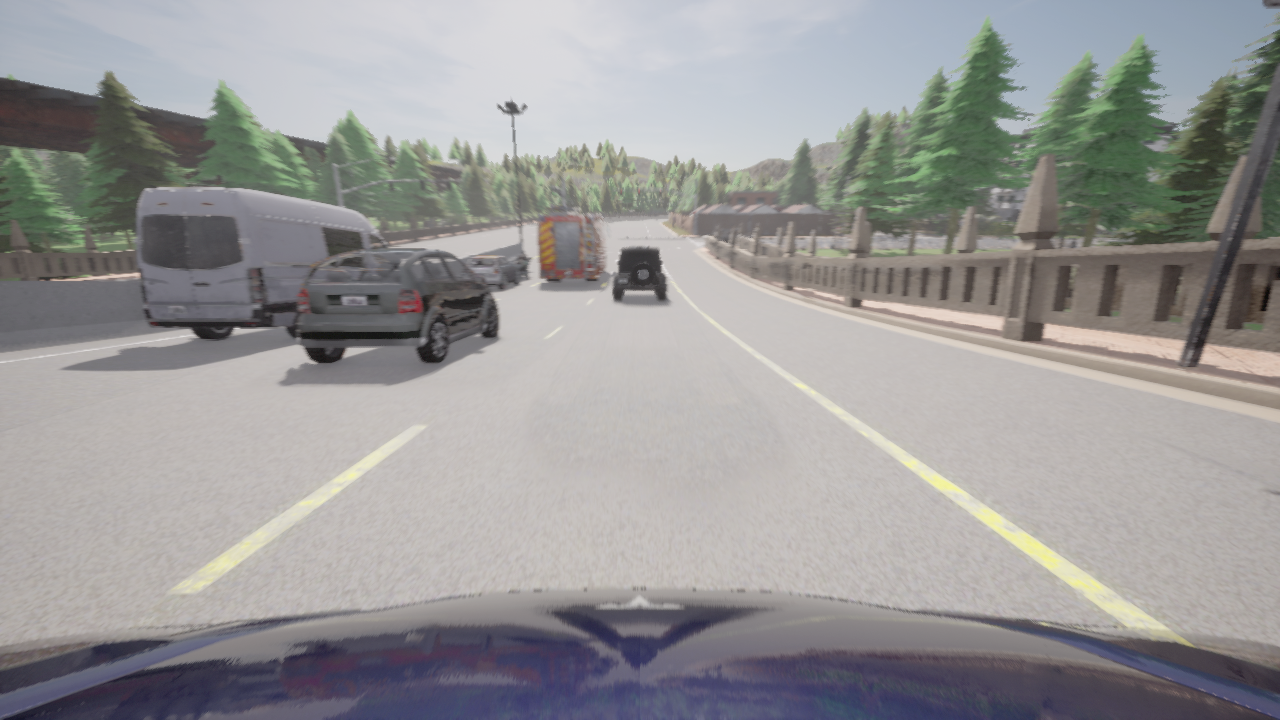cyclist: (0, 588, 1279, 719), (134, 188, 388, 338), (297, 249, 498, 363), (539, 205, 610, 281), (613, 247, 666, 299), (467, 256, 519, 289), (713, 228, 753, 243), (516, 258, 528, 278), (630, 244, 648, 246)
